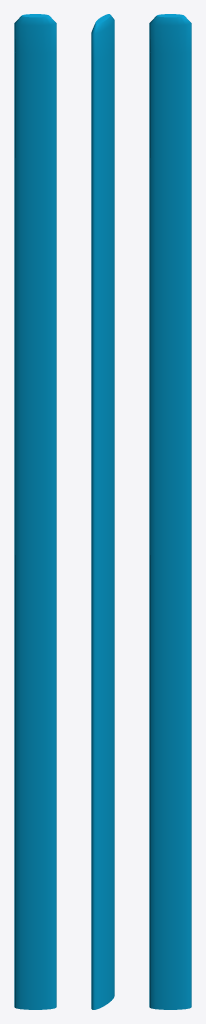
Rendered from Fence_03_End_lod0.fbx.
3 renders of one model, left to right at view 1: azimuth 90°, elevation 25°; view 2: azimuth 150°, elevation 25°; view 3: azimuth 270°, elevation 25°, orthographic.
Visible parts, largest first — view 1: Fence_03_End_lod0; view 2: Fence_03_End_lod0; view 3: Fence_03_End_lod0.
Part boxes in pixels (<box>): Fence_03_End_lod0: <box>14,14,56,1009</box>; Fence_03_End_lod0: <box>91,14,114,1009</box>; Fence_03_End_lod0: <box>149,14,191,1009</box>.
Bounding box in the file's own units: 3.78 × 342 × 13.18.
